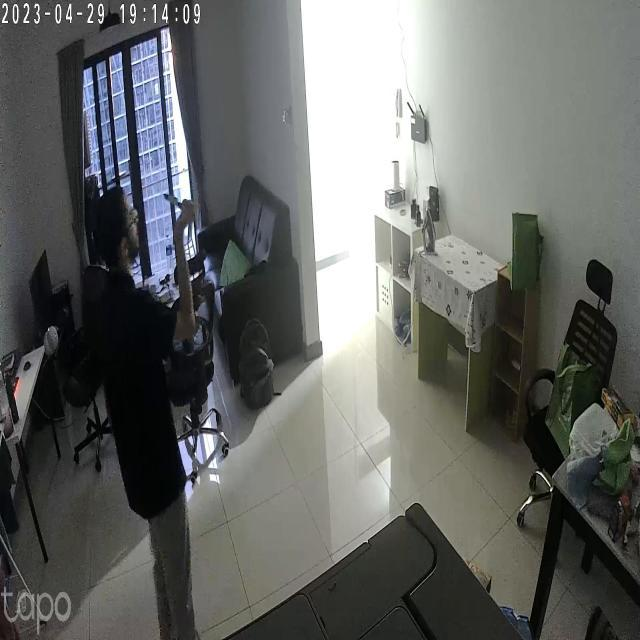Knife: (160, 185, 211, 221)
